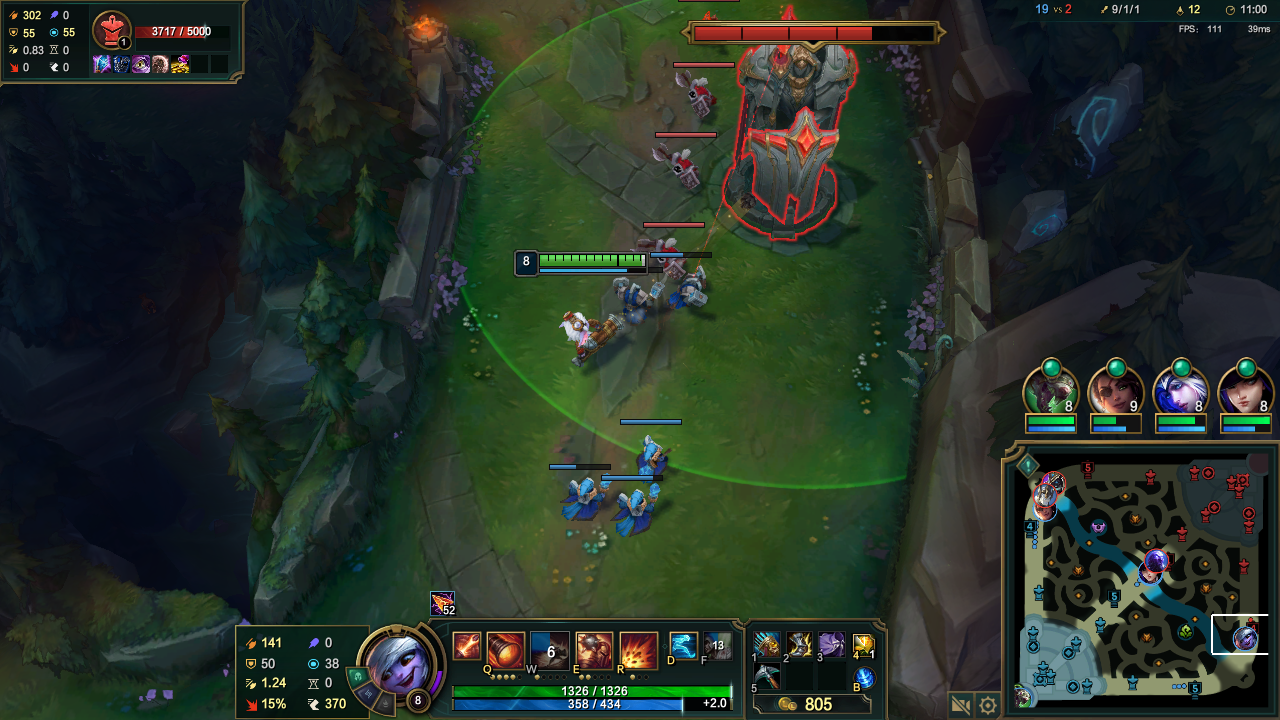DFFYT: (703, 19, 857, 235)
DFXB: (646, 138, 707, 196), (668, 68, 725, 120), (633, 234, 694, 280)
WFXB: (610, 484, 665, 538), (564, 478, 611, 525), (631, 435, 677, 482), (664, 270, 715, 311), (611, 279, 658, 317)
Yita: (1186, 674, 1203, 696)
